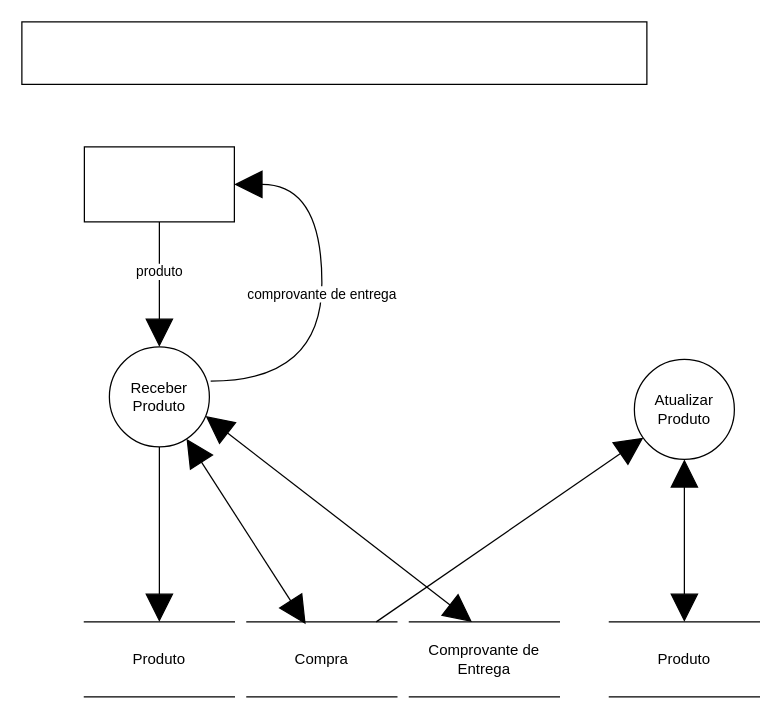
Some shapes in this 781 by 719 pixel diagram are drawn without their labels. Each missing label, with the centre of its shape:
"DFD - Tratar abastecimento de estoque" belongs at (x=334, y=52).
"Fabricante" belongs at (x=158, y=184).
